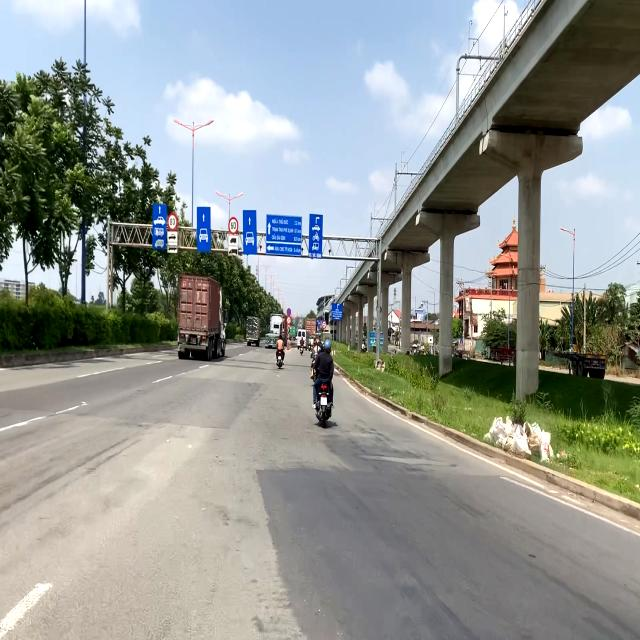P.127: (167, 213, 178, 231), (228, 216, 238, 235)
P.130: (287, 308, 291, 316)
